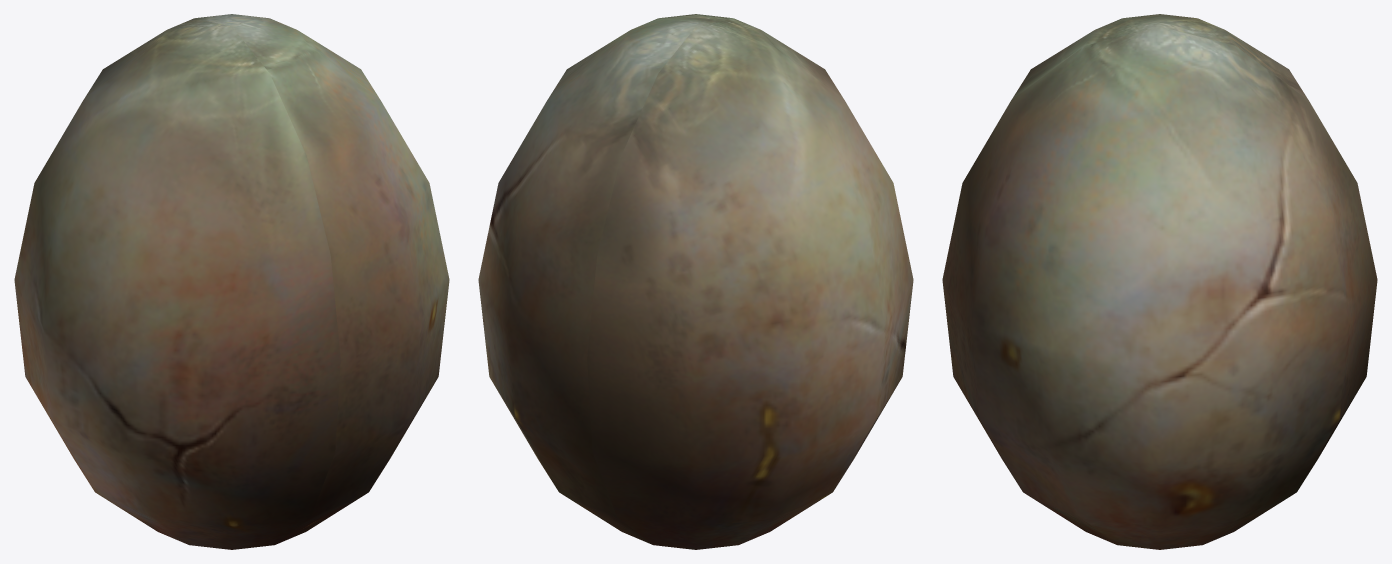
File: D_longdan001.fbx
3 views of the same model, side by side, from view 1: azimuth 30°, elevation 25°; view 2: azimuth 150°, elevation 25°; view 3: azimuth 270°, elevation 25° (orthographic).
Parts seen in each view (by area): view 1: D_longdan001; view 2: D_longdan001; view 3: D_longdan001.
Boxes of the visible parts, x1=… form: D_longdan001: x1=14, y1=14, x2=449, y2=549; D_longdan001: x1=478, y1=14, x2=913, y2=549; D_longdan001: x1=942, y1=14, x2=1377, y2=549.
Size of the model in its own units: 448 by 576 by 448.
